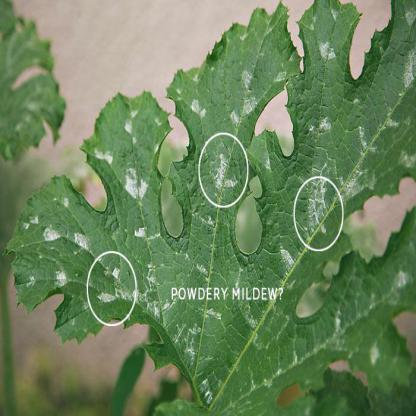Squash Powdery mildew leaf: (16, 0, 414, 395)
